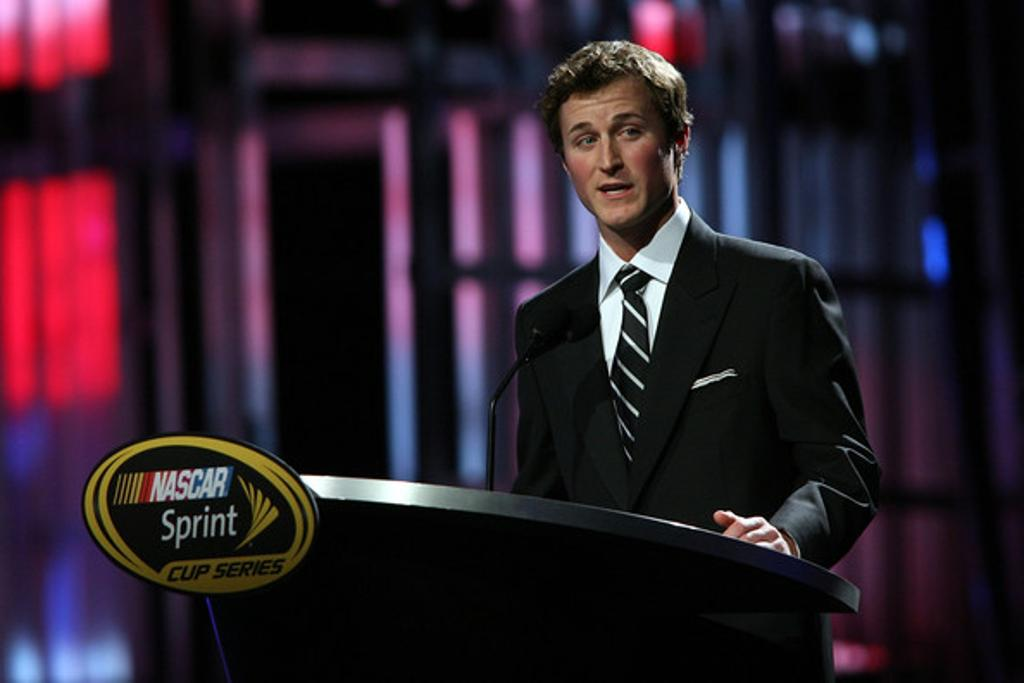face: (562, 76, 676, 228)
